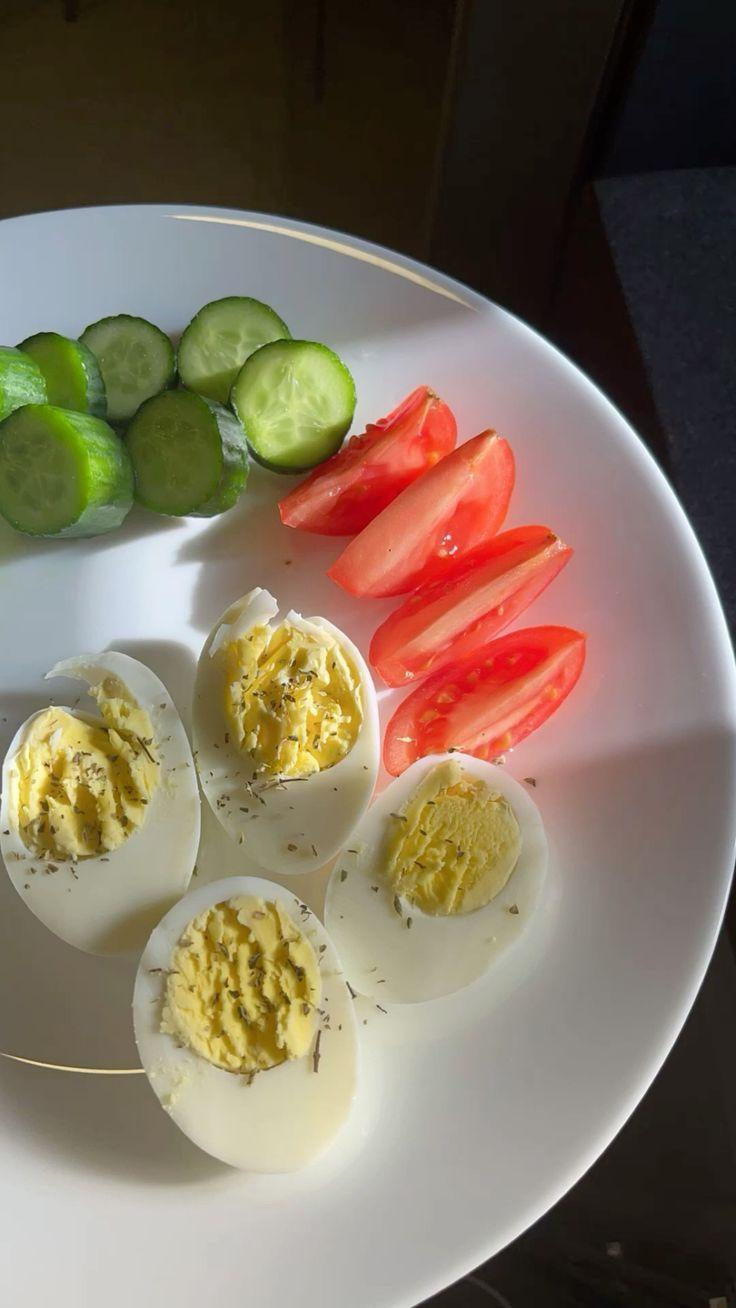eggs: (27, 631, 509, 1142)
